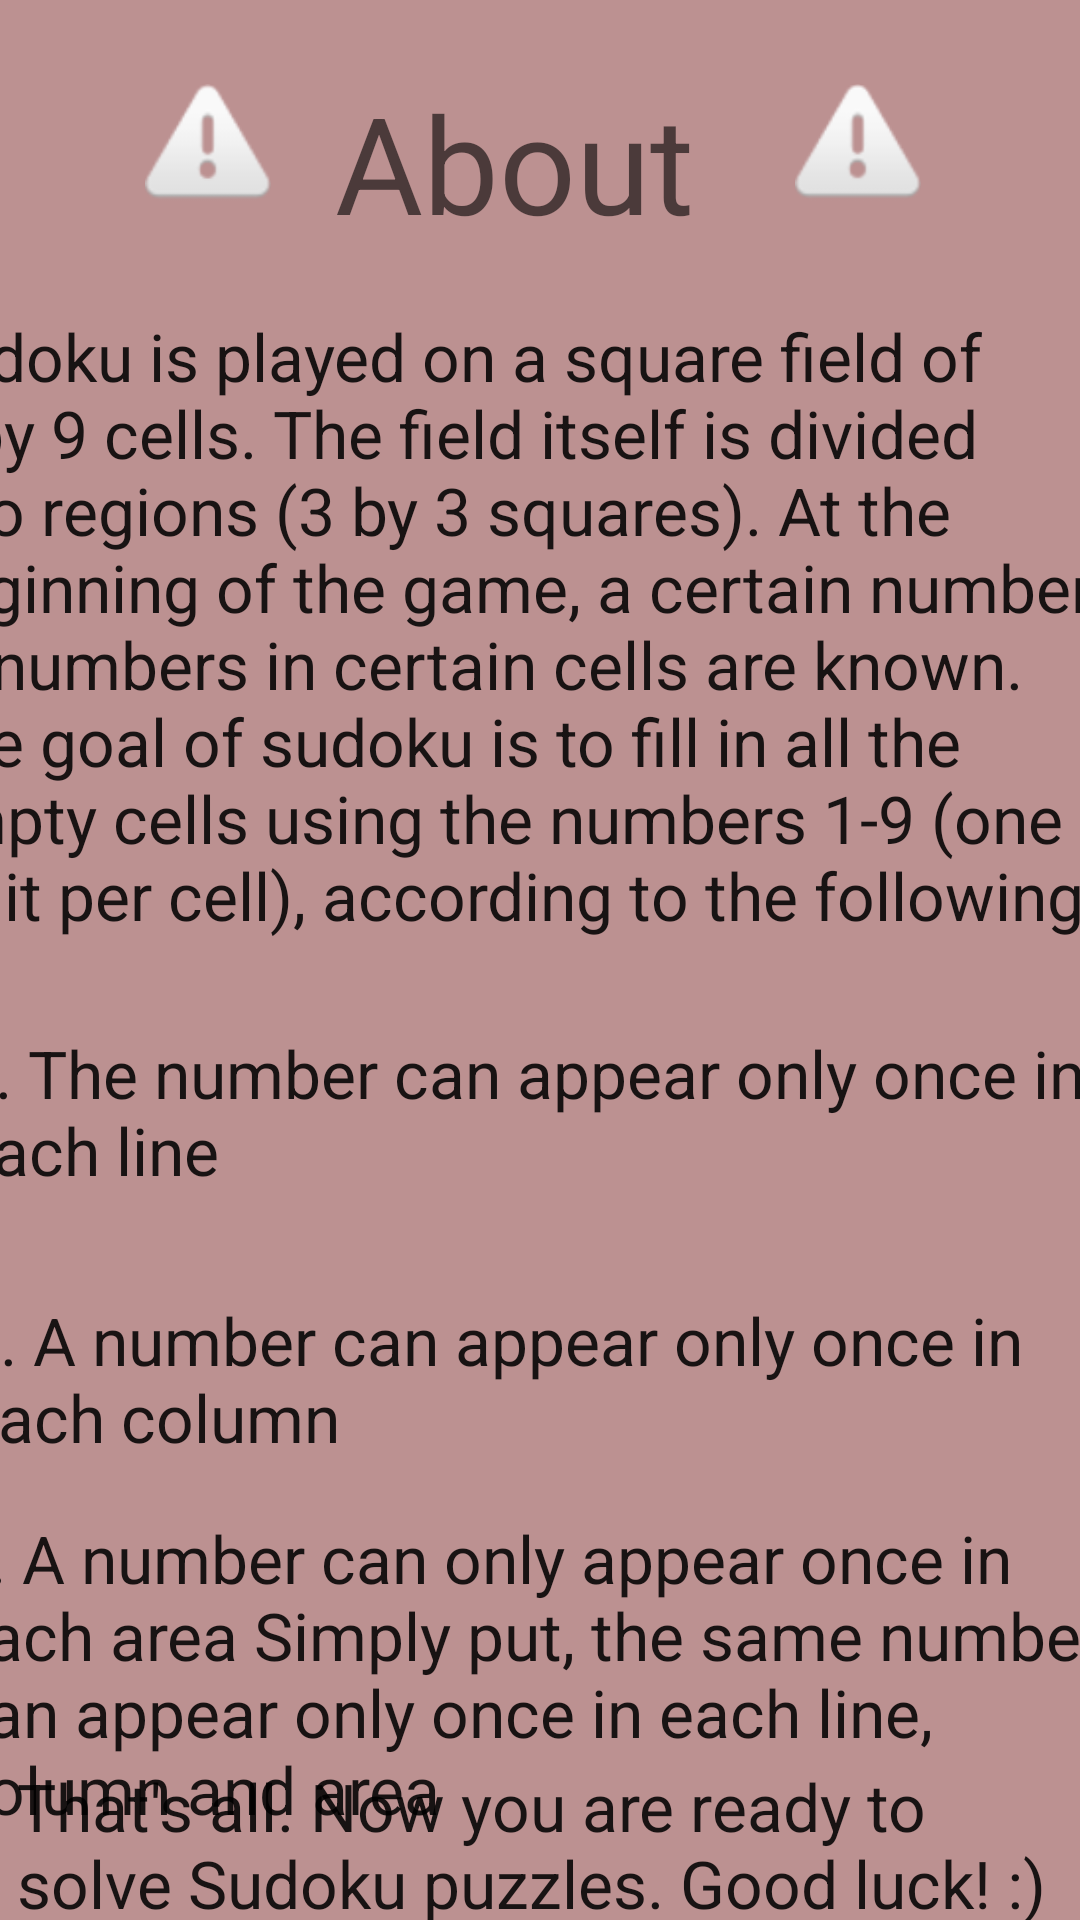

Screen size 1080*1920. Icon name, then its box in pixels as (x1, y1, x2, y2):
alert: (145, 85, 269, 196), (795, 85, 919, 196)
